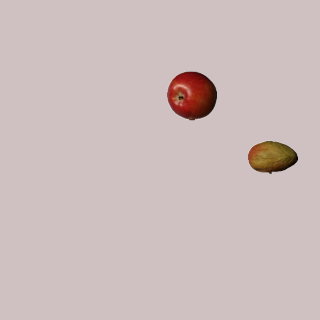Apple Braeburn: (166, 70, 216, 120)
Papaya: (247, 132, 297, 182)
